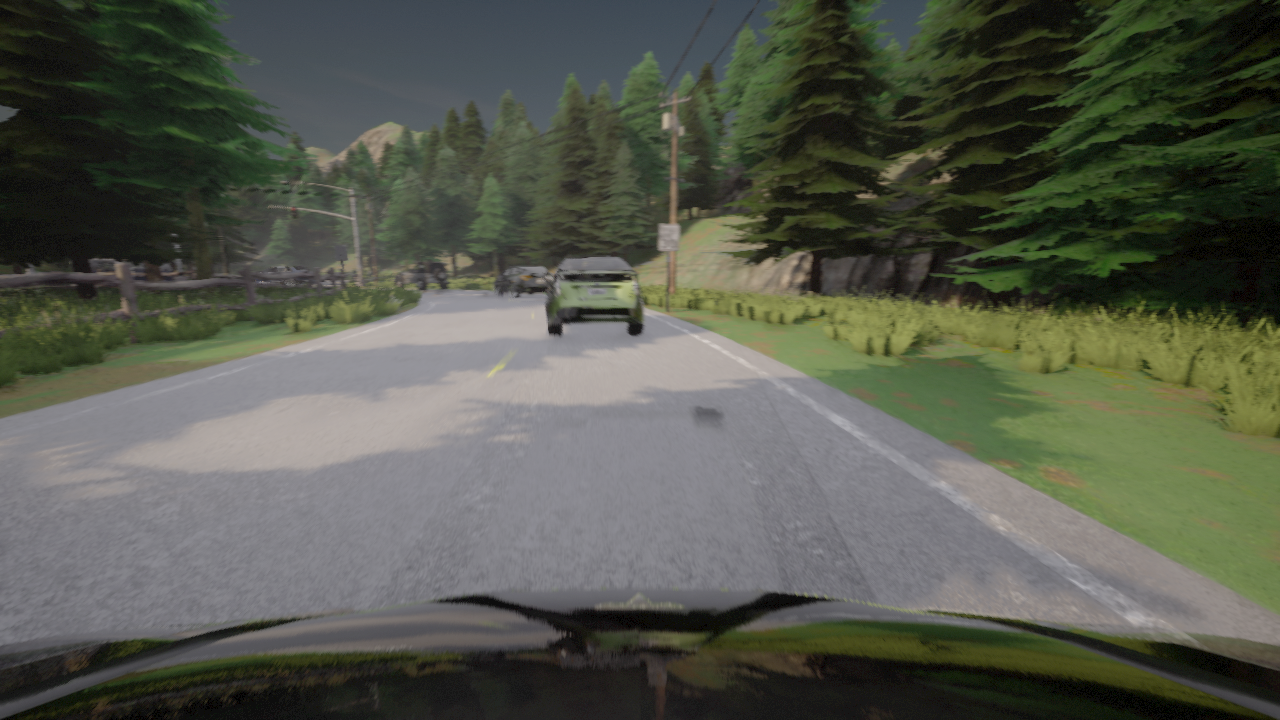cyclist: (0, 588, 1279, 719), (545, 256, 643, 336), (72, 258, 173, 286), (494, 266, 553, 298), (394, 261, 450, 290), (241, 266, 315, 286), (351, 273, 356, 280)
